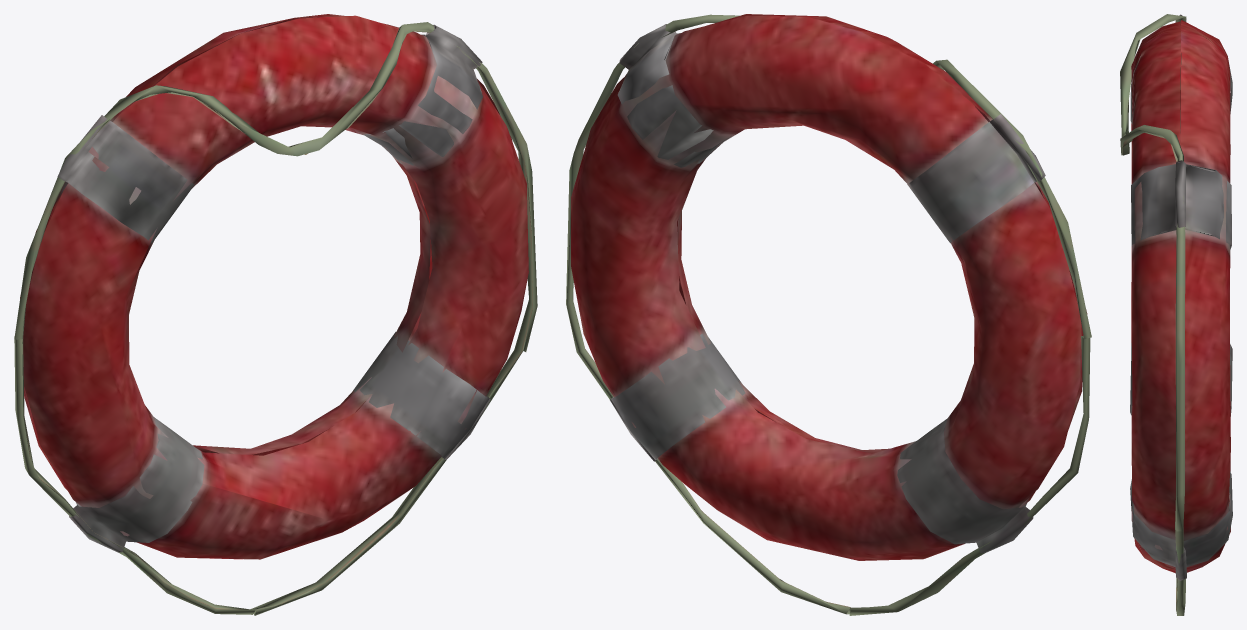
Rendered from ph_lifebuoy.glb.
The picture shows the model from 3 angles, left to right: view 1: azimuth 30°, elevation 25°; view 2: azimuth 150°, elevation 25°; view 3: azimuth 270°, elevation 25°; orthographic projection. The views are drawn at different scales.
Visible parts, largest first — view 1: lifebuoy; view 2: lifebuoy; view 3: lifebuoy.
Part boxes in pixels (x1=…): lifebuoy: x1=14, y1=14, x2=537, y2=615; lifebuoy: x1=566, y1=14, x2=1091, y2=615; lifebuoy: x1=1120, y1=14, x2=1232, y2=615.
Bounding box in the file's own units: 0.7859 × 0.8422 × 0.1548.
Materials: 1 (1 with a texture image).
